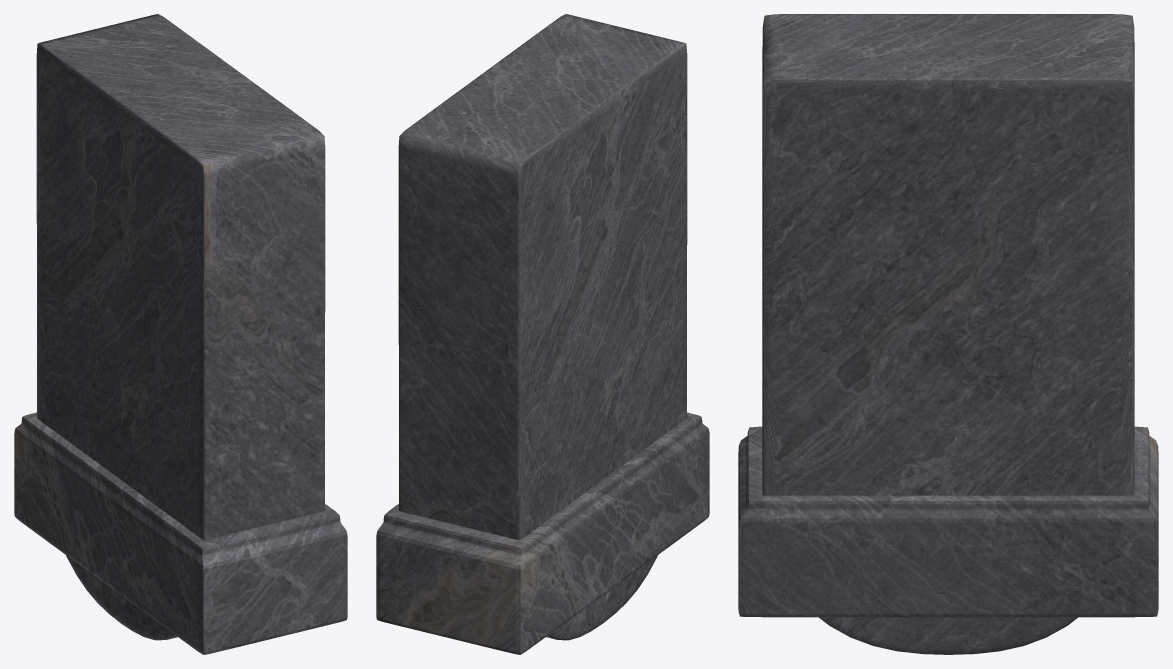
The model's file is Grave1.fbx.
3 renders of one model, left to right at view 1: azimuth 30°, elevation 25°; view 2: azimuth 150°, elevation 25°; view 3: azimuth 270°, elevation 25°, orthographic. The views are drawn at different scales.
Visible parts, largest first — view 1: Cube.007; view 2: Cube.007; view 3: Cube.007.
Part boxes in pixels (x1=…): Cube.007: x1=14, y1=14, x2=347, y2=654; Cube.007: x1=376, y1=14, x2=709, y2=654; Cube.007: x1=738, y1=14, x2=1158, y2=654.
Size of the model in its own units: 100 by 342 by 226.
Materials: 1 (1 with a texture image).
